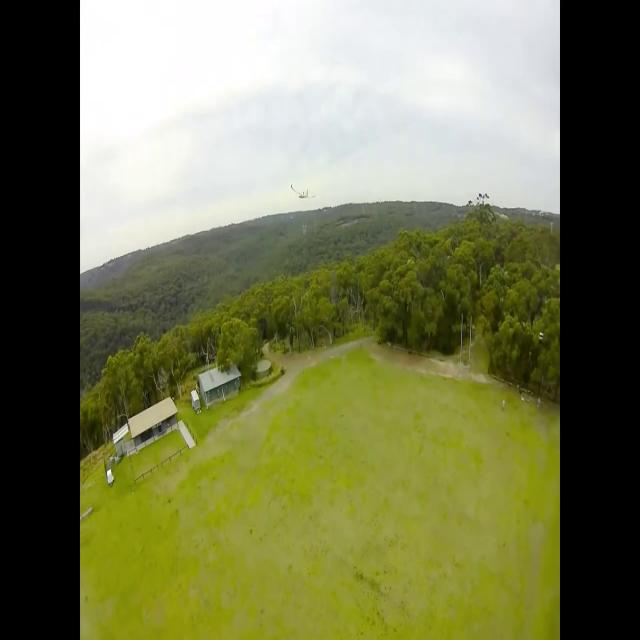iha: (291, 184, 315, 204)
